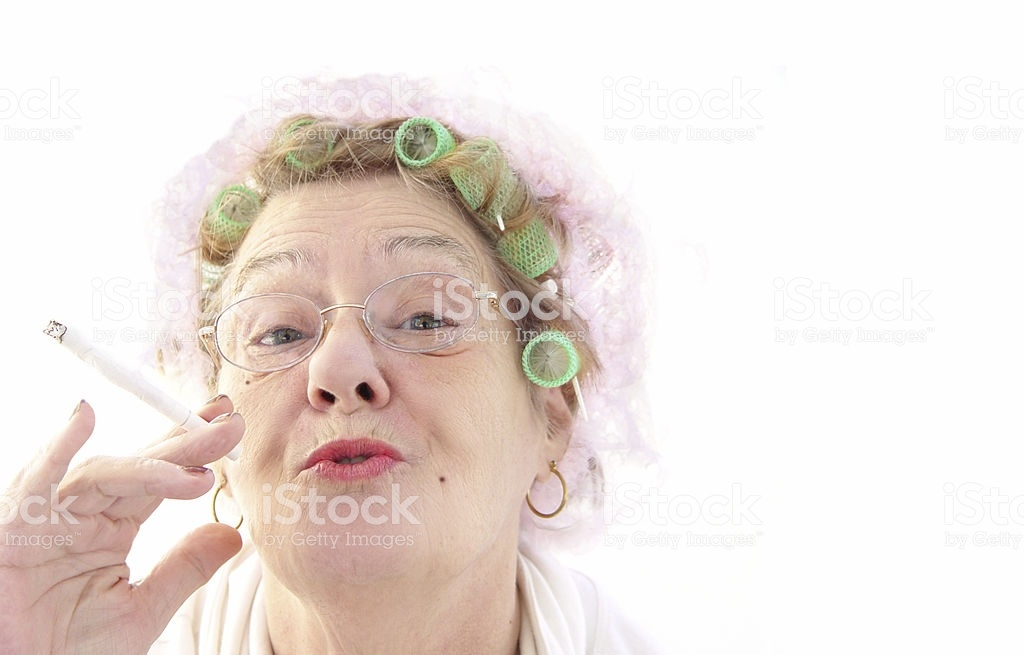sigaretta: (43, 317, 237, 460)
